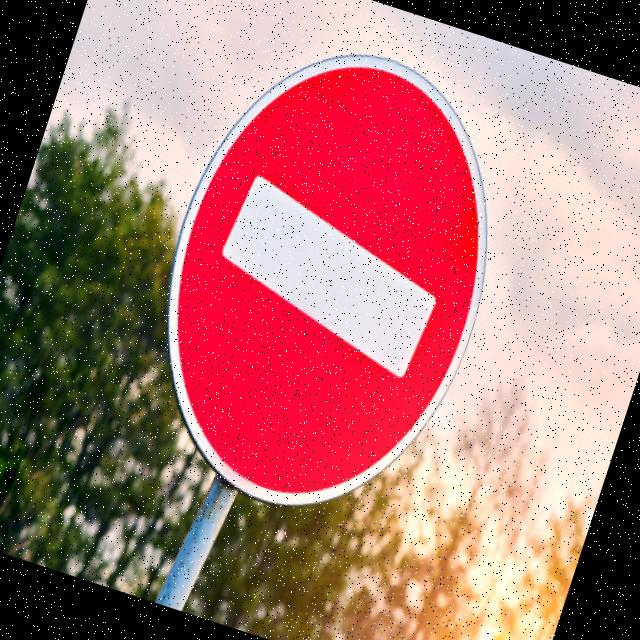do_not_enter: (103, 2, 554, 565)
